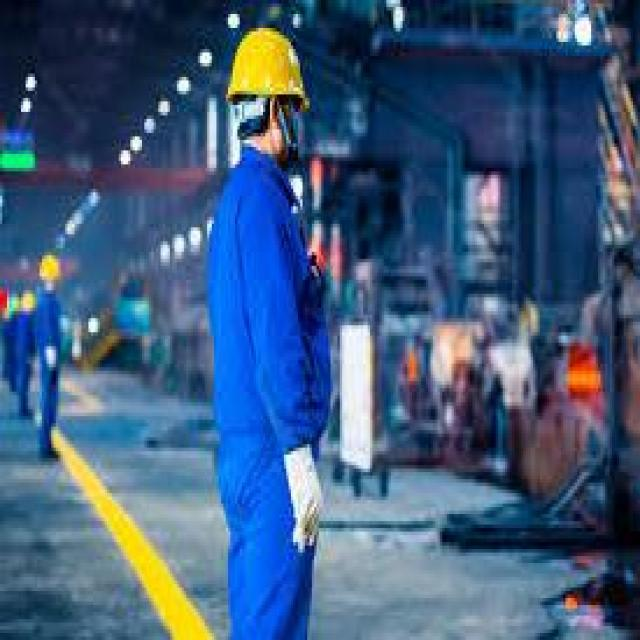Safety-Helmet: (221, 24, 314, 112)
